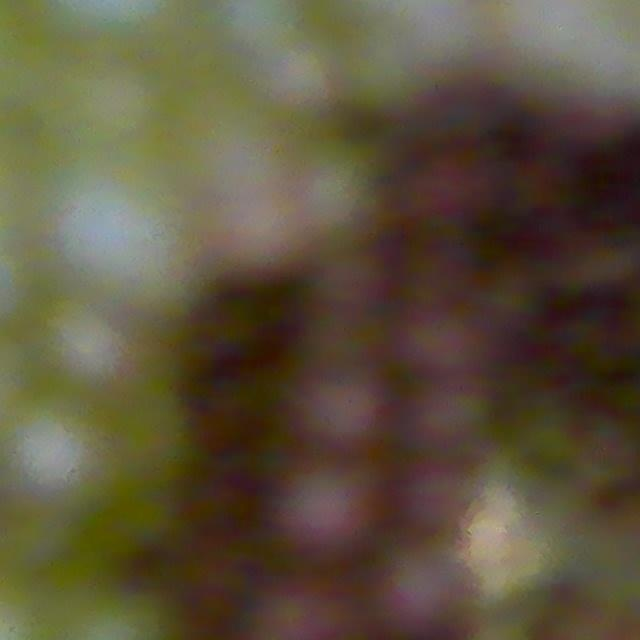SeaGrape: (266, 453, 377, 555), (4, 400, 112, 504), (372, 552, 461, 640), (38, 305, 128, 391), (303, 374, 400, 453), (421, 294, 489, 377)
